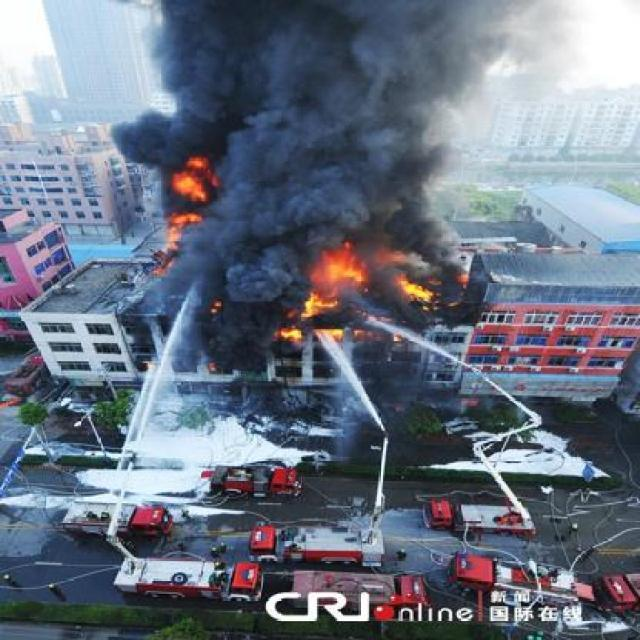Fire: (275, 237, 486, 348), (152, 152, 217, 283), (207, 358, 220, 372), (209, 300, 220, 316)
Smoke: (111, 17, 553, 150), (279, 156, 462, 236), (221, 154, 271, 364)
